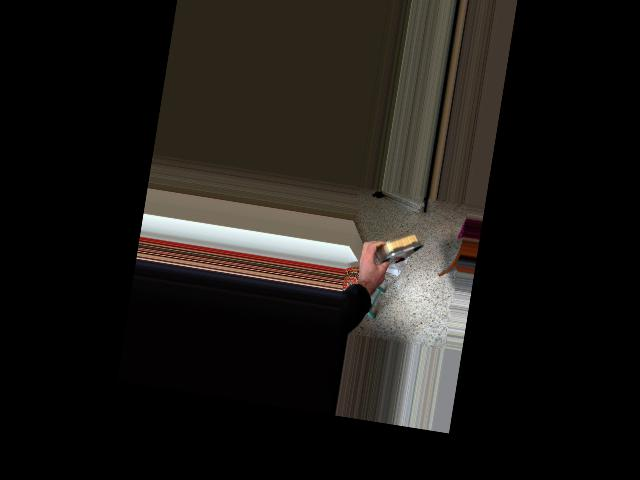cheese: (349, 215, 428, 282)
